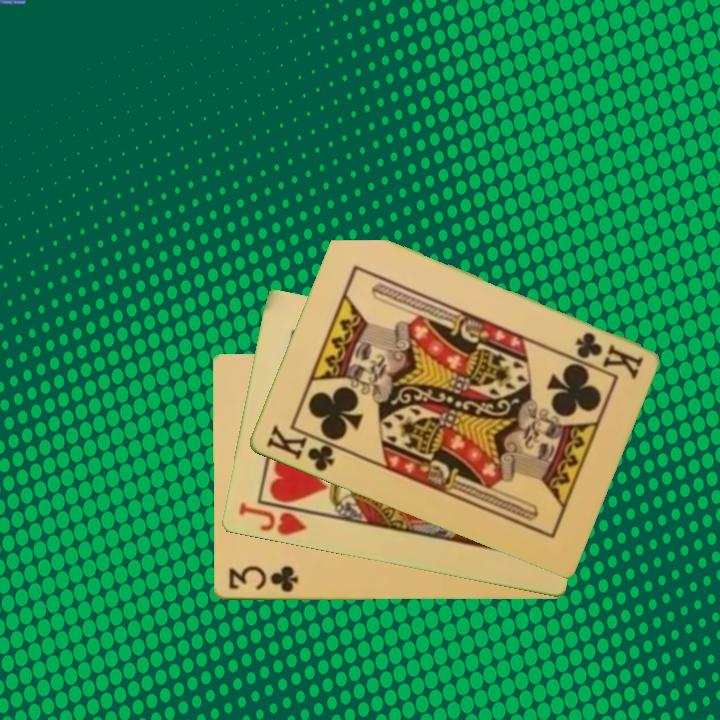3c: (225, 563, 301, 596)
Jh: (234, 498, 318, 539)
Kc: (262, 422, 346, 475), (571, 328, 646, 381)
